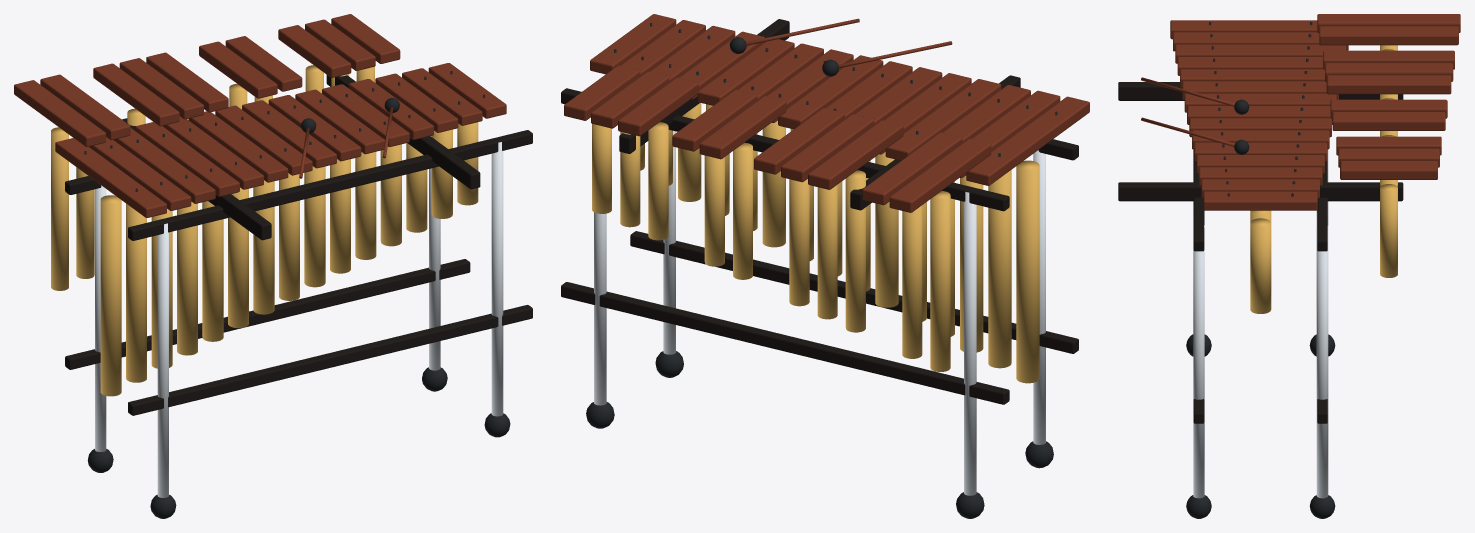
Rendered from xylophone.glb.
3 views of the same model, side by side, from view 1: azimuth 30°, elevation 25°; view 2: azimuth 150°, elevation 25°; view 3: azimuth 270°, elevation 25° (orthographic). The views are drawn at different scales.
Parts seen in each view (by area): view 1: xylophone — Palissandre, xylophone — Laiton poli, xylophone — Ebene, xylophone — Maillechort argente, xylophone — Caoutchouc; view 2: xylophone — Palissandre, xylophone — Laiton poli, xylophone — Ebene, xylophone — Maillechort argente, xylophone — Caoutchouc; view 3: xylophone — Palissandre, xylophone — Ebene, xylophone — Maillechort argente, xylophone — Laiton poli, xylophone — Caoutchouc.
Boxes of the visible parts, <box> form: xylophone — Palissandre: <box>14,14,506,217</box>; xylophone — Laiton poli: <box>51,65,478,396</box>; xylophone — Ebene: <box>65,75,532,415</box>; xylophone — Maillechort argente: <box>95,136,503,497</box>; xylophone — Caoutchouc: <box>84,71,510,518</box>; xylophone — Palissandre: <box>564,14,1089,212</box>; xylophone — Laiton poli: <box>592,103,1039,383</box>; xylophone — Ebene: <box>561,19,1078,404</box>; xylophone — Maillechort argente: <box>594,130,1045,495</box>; xylophone — Caoutchouc: <box>586,23,1057,518</box>; xylophone — Palissandre: <box>1141,14,1460,210</box>; xylophone — Ebene: <box>1118,82,1403,423</box>; xylophone — Maillechort argente: <box>1193,149,1328,498</box>; xylophone — Laiton poli: <box>1250,45,1397,313</box>; xylophone — Caoutchouc: <box>1186,22,1335,518</box>.
Size of the model in its own units: 0.96 by 0.783 by 0.721.
